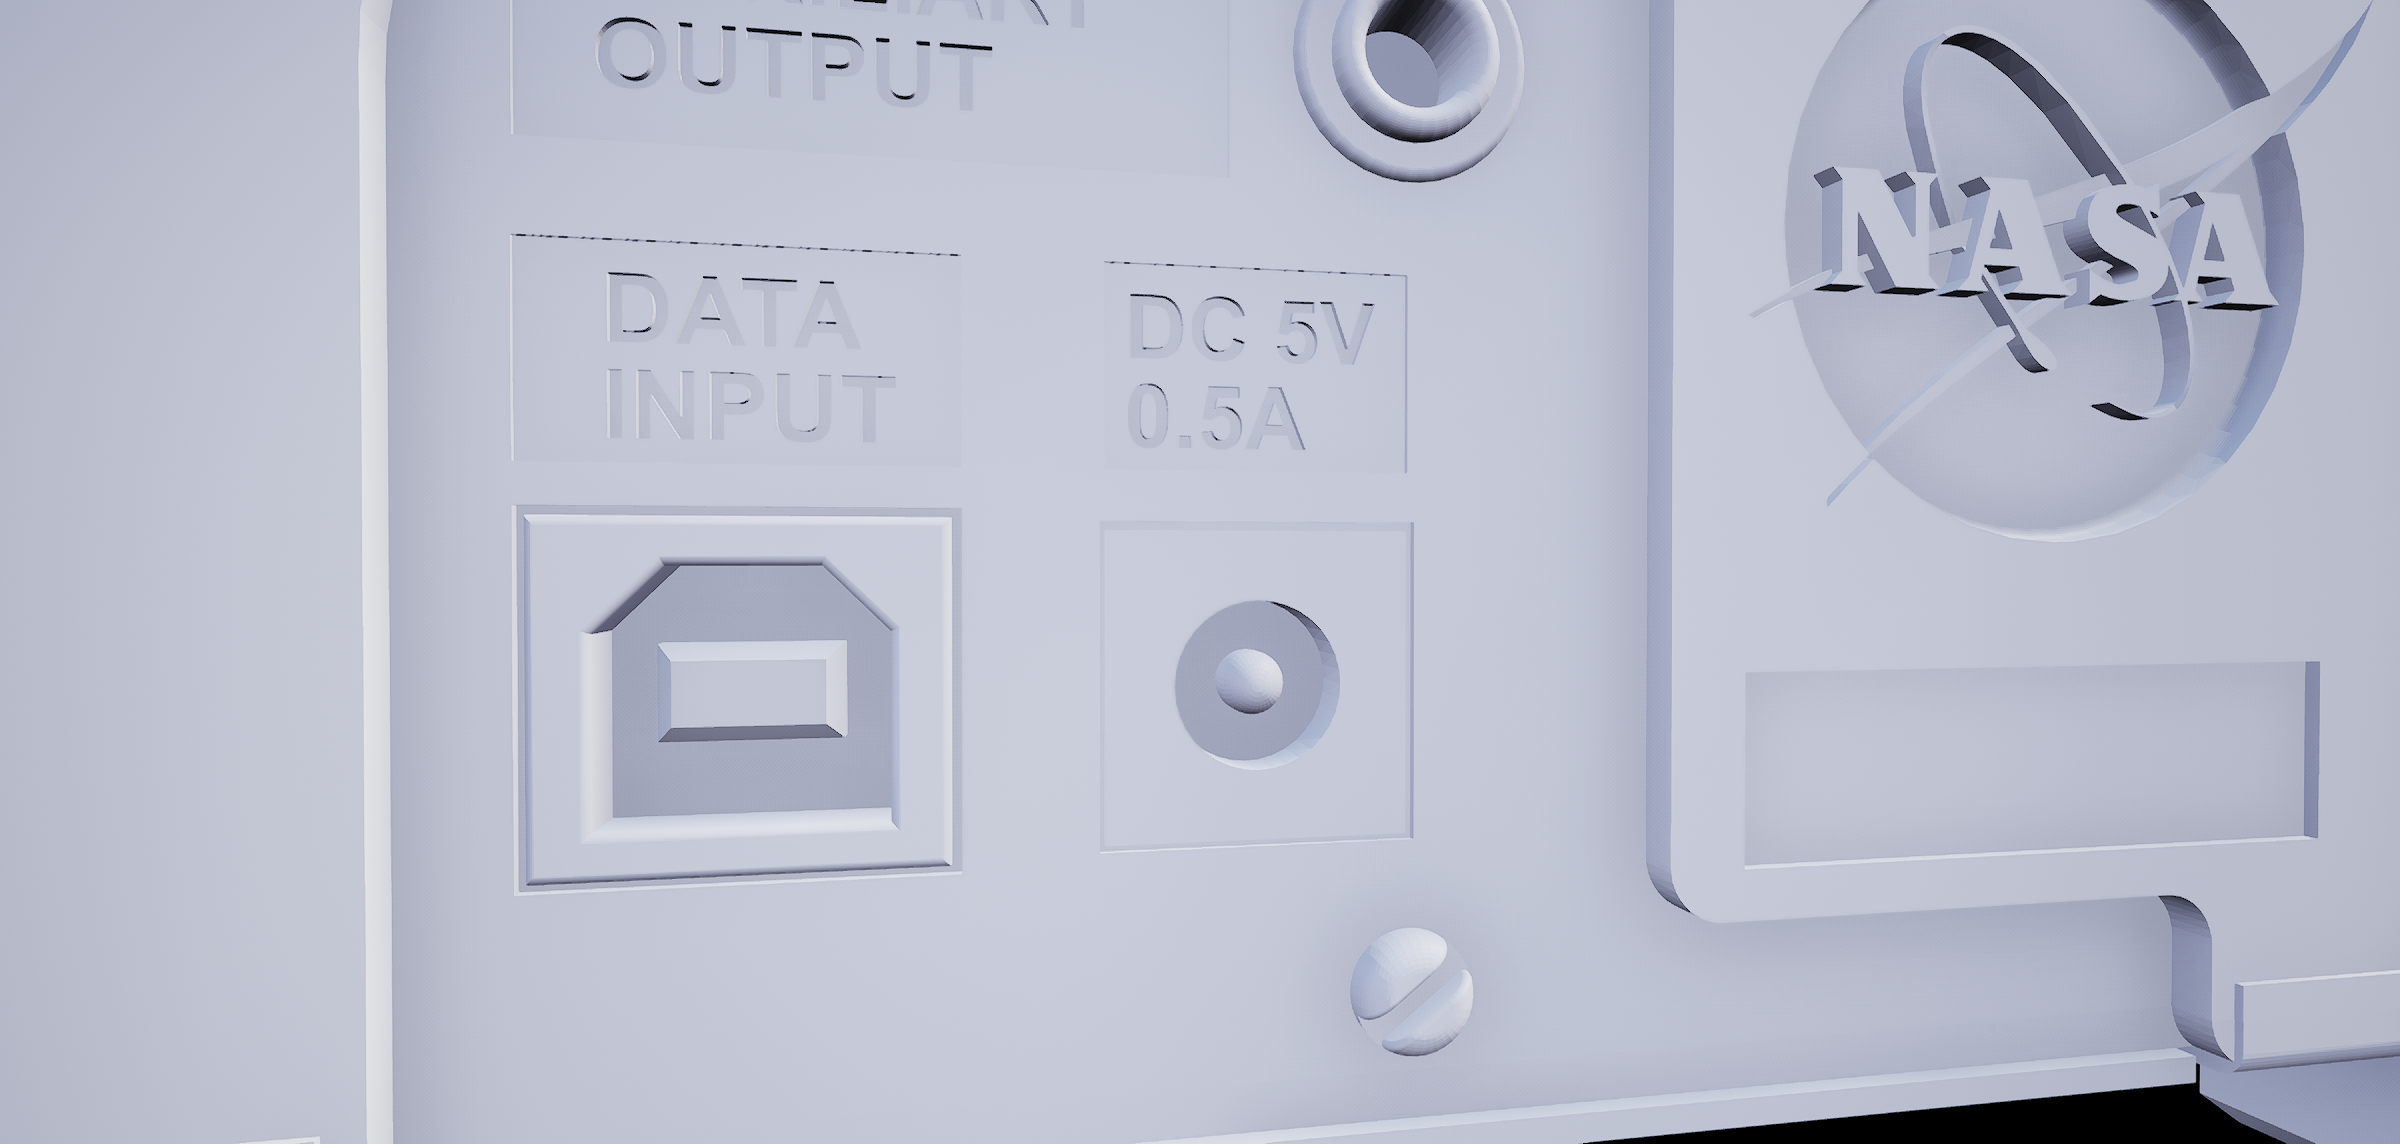aux: (1263, 2, 1543, 202)
dc: (1154, 590, 1358, 789)
usb: (569, 539, 911, 862)
